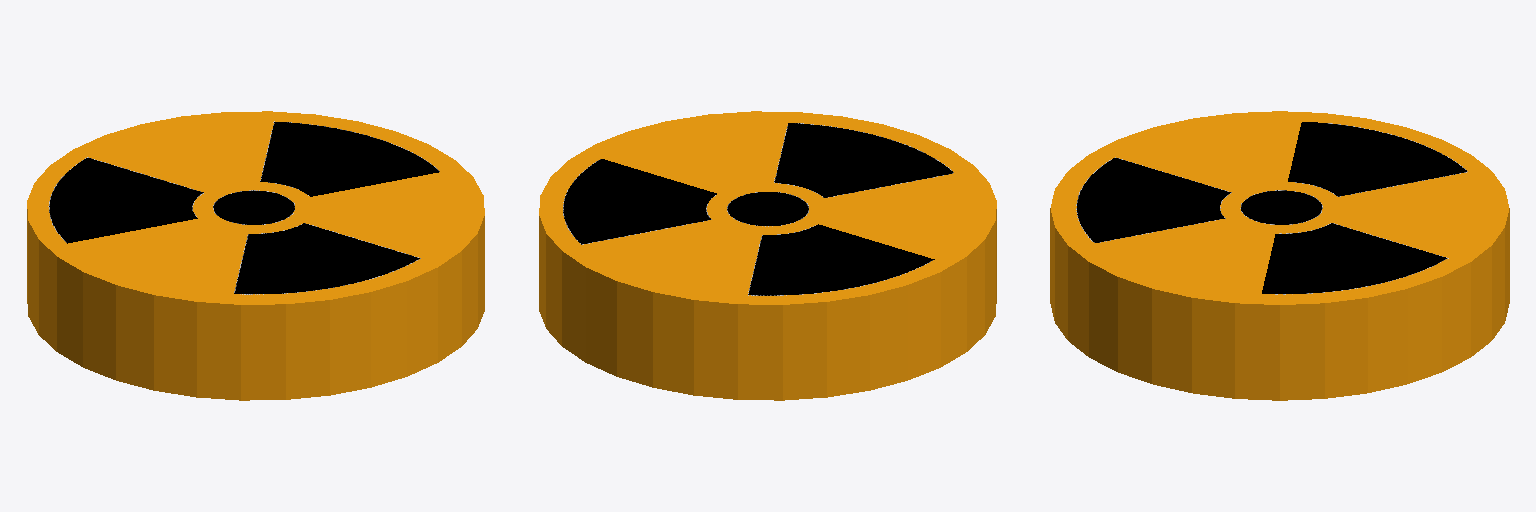
3 renders of one model, left to right at view 1: azimuth 30°, elevation 25°; view 2: azimuth 150°, elevation 25°; view 3: azimuth 270°, elevation 25°, orthographic.
Visible parts, largest first — view 1: Cylinder; view 2: Cylinder; view 3: Cylinder.
Boxes of the visible parts, box(x1,y1,x2,y2) form: Cylinder: box(27, 111, 484, 400); Cylinder: box(539, 111, 996, 400); Cylinder: box(1050, 111, 1509, 400).
Size of the model in its own units: 2 by 0.4598 by 2.
Materials: 1 (1 with a texture image).